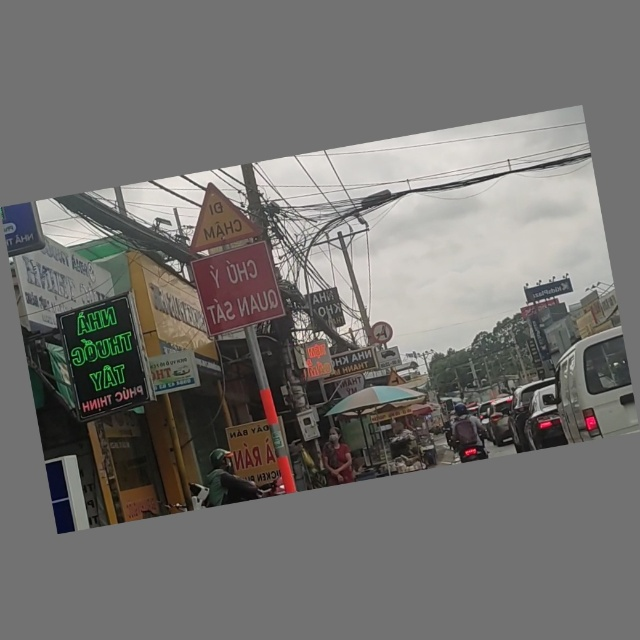P.139: (365, 319, 395, 350)
S.505a*Xe tai: (377, 349, 401, 369)
W.205b: (383, 367, 406, 389)
W.245a: (174, 177, 263, 257)
